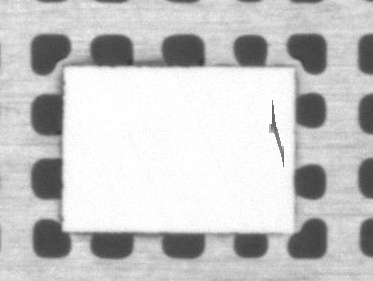DIE_INK: (269, 99, 285, 166)
